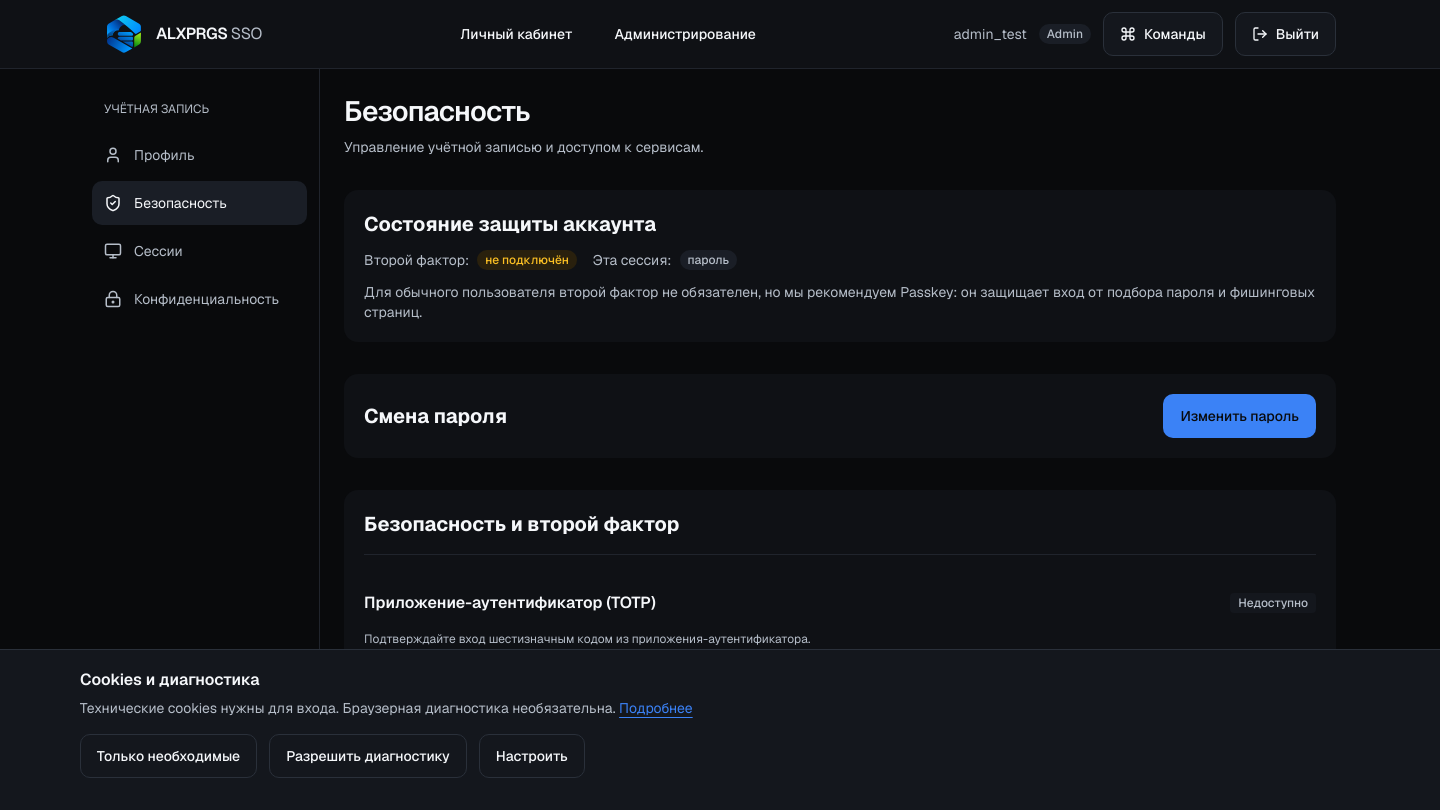
server capabilities and account flows › changes password in a modal and closes it after success
Click the button "Изменить пароль".
click(1240, 416)  # box [1163, 394, 1316, 438]
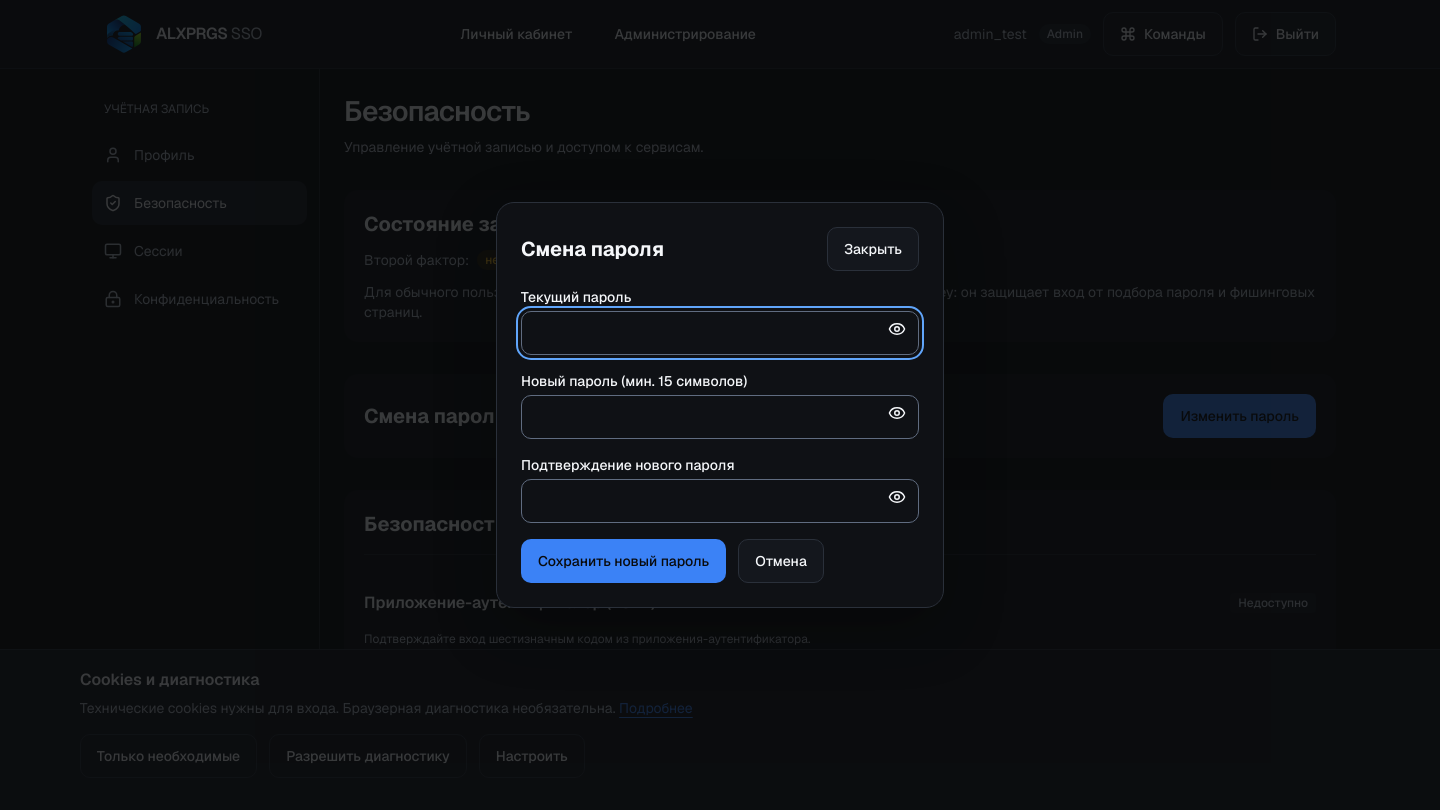
Now the number of password fields is 3
Type "CurrentPassword123!" into the password field labelled "Текущий пароль".
click(720, 333); type("CurrentPassword123!")  # box [521, 311, 919, 355]
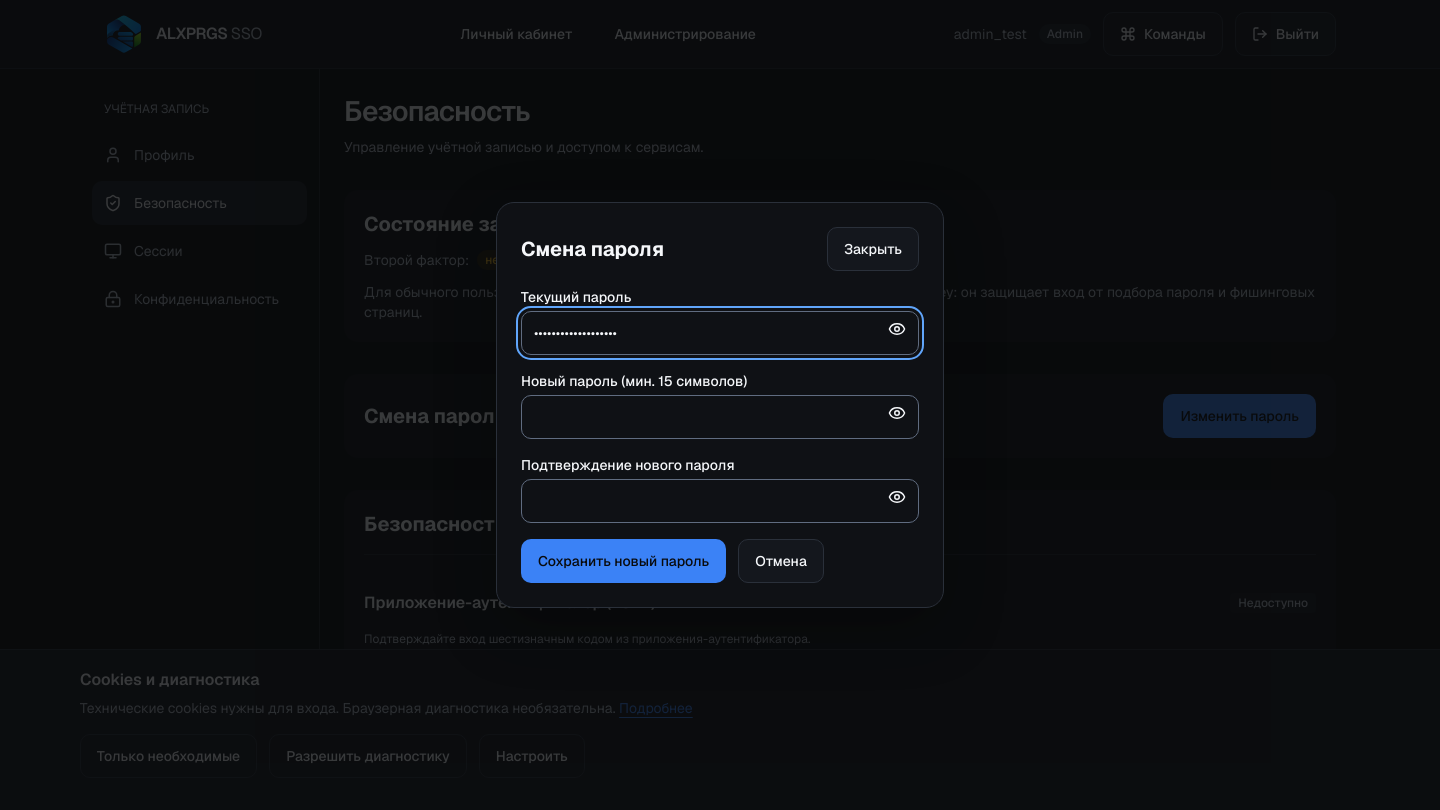
Type "NewPasswordRegression2026!" into the password field labelled "Новый пароль (мин. 15 символов)".
click(720, 417); type("NewPasswordRegression2026!")  # box [521, 395, 919, 439]
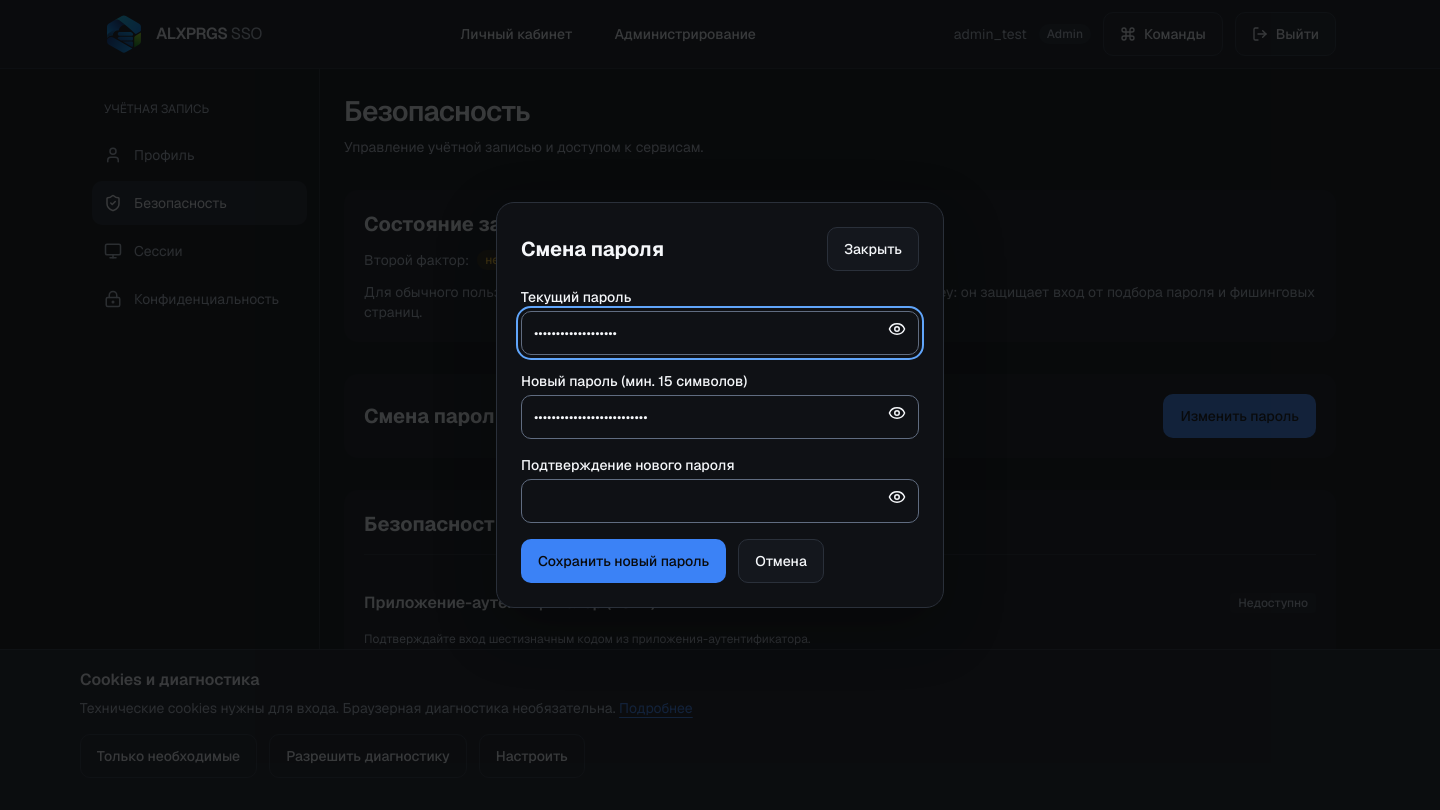
Type "NewPasswordRegression2026!" into the password field labelled "Подтверждение нового пароля".
click(720, 501); type("NewPasswordRegression2026!")  # box [521, 479, 919, 523]
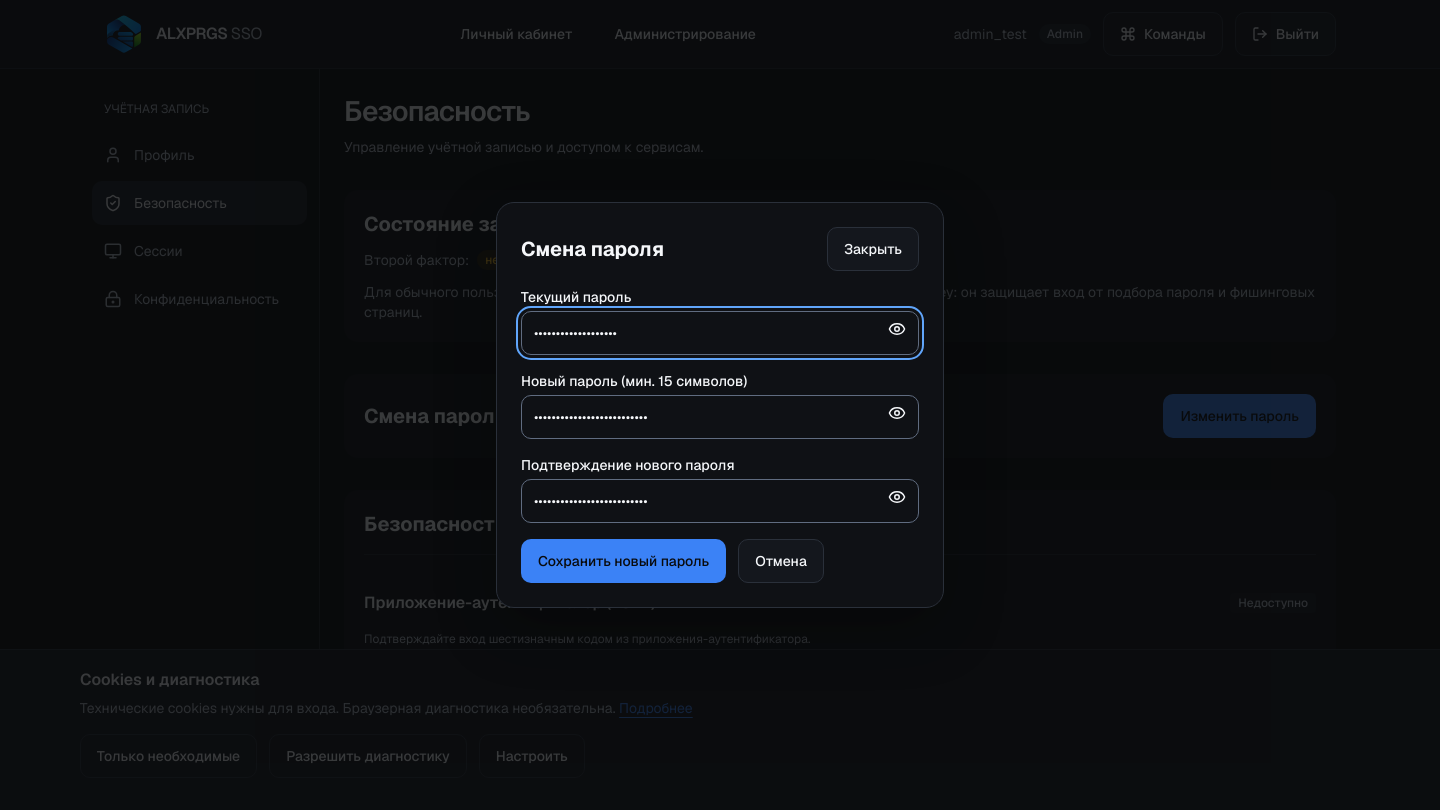
Click the button "Сохранить новый пароль".
click(624, 561)  # box [521, 539, 726, 583]
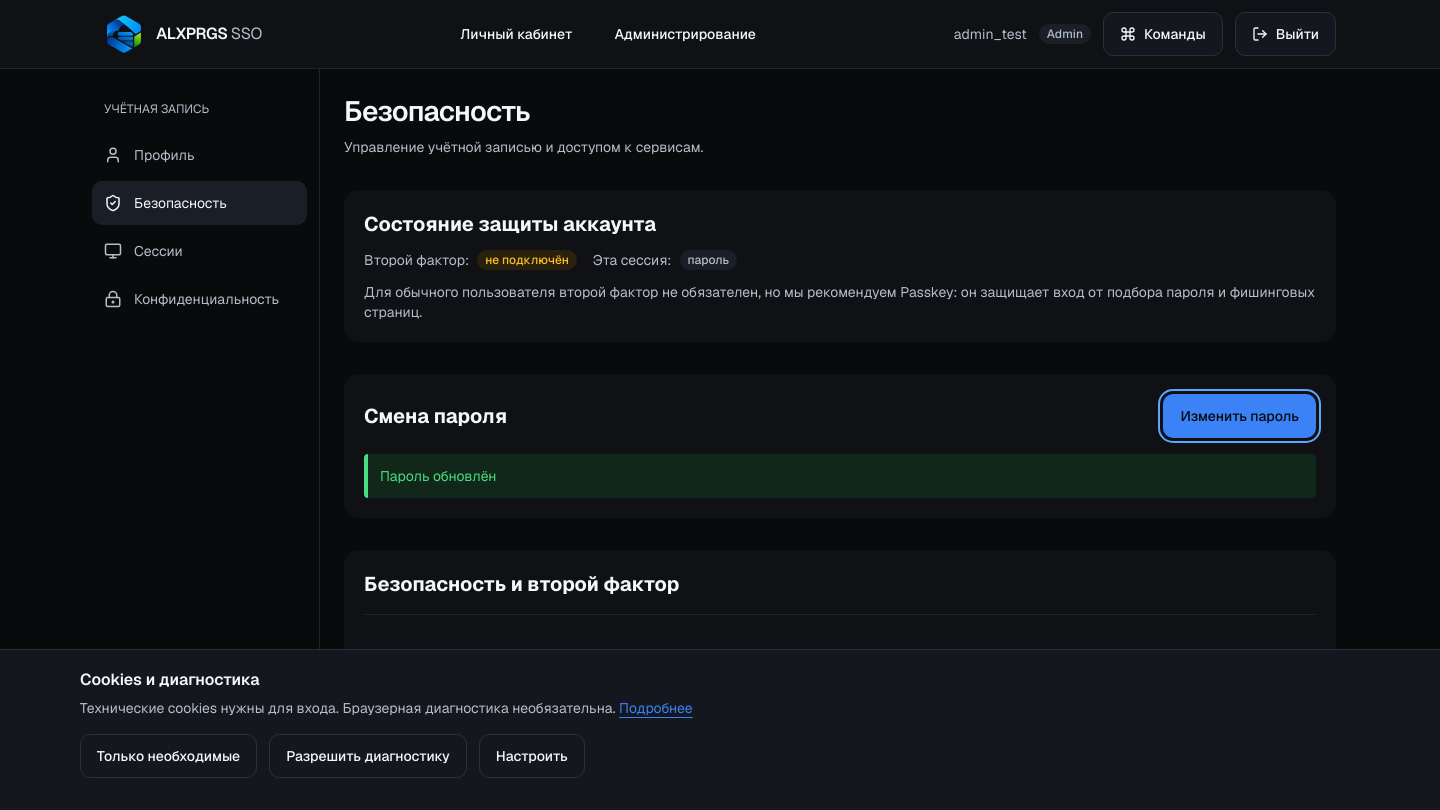
Now the text "Пароль обновлён" is shown, box [364, 454, 1316, 498]
